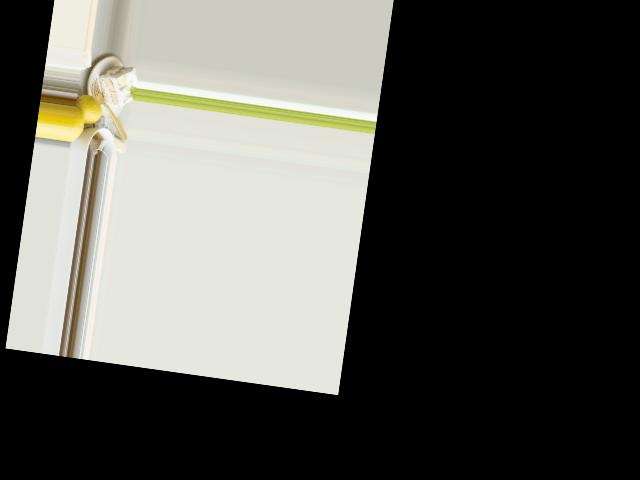lemon: (69, 106, 87, 144)
